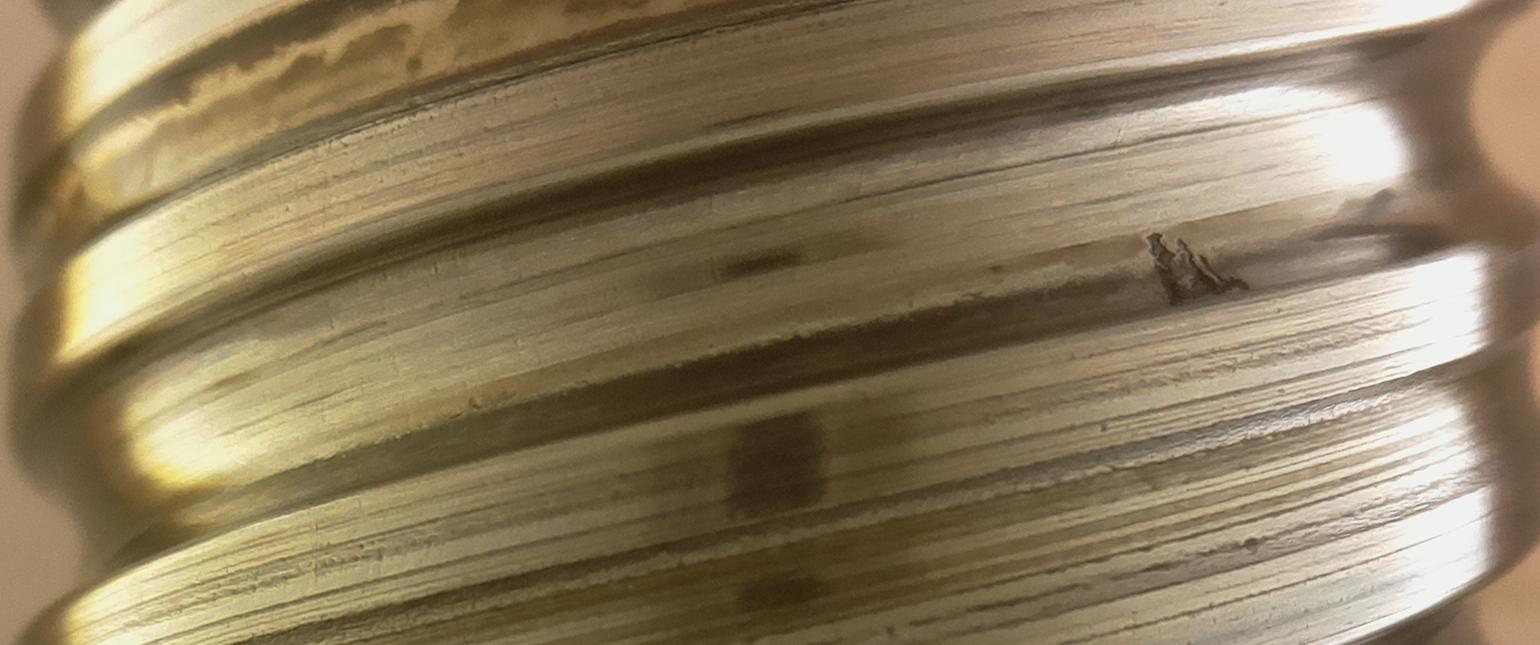pitting: (1146, 233, 1248, 306)
